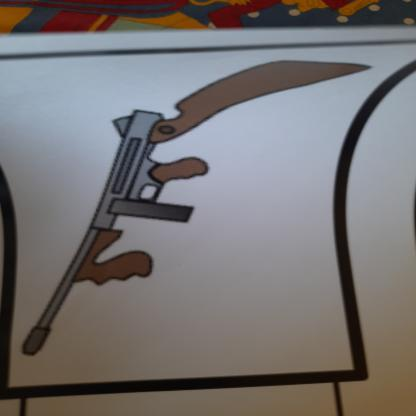Bootlegger: (17, 53, 376, 373)
